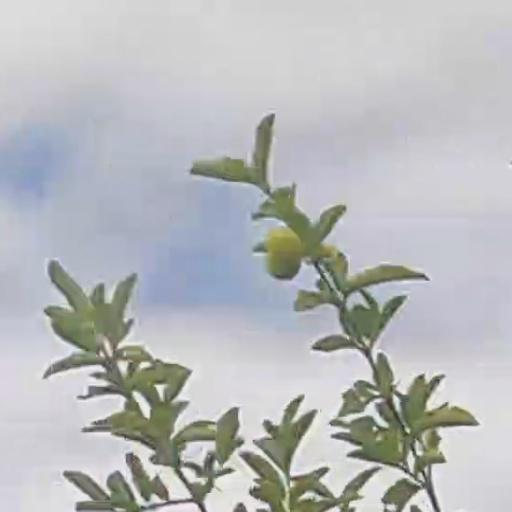acerola: (268, 233, 302, 258), (269, 259, 301, 278)
